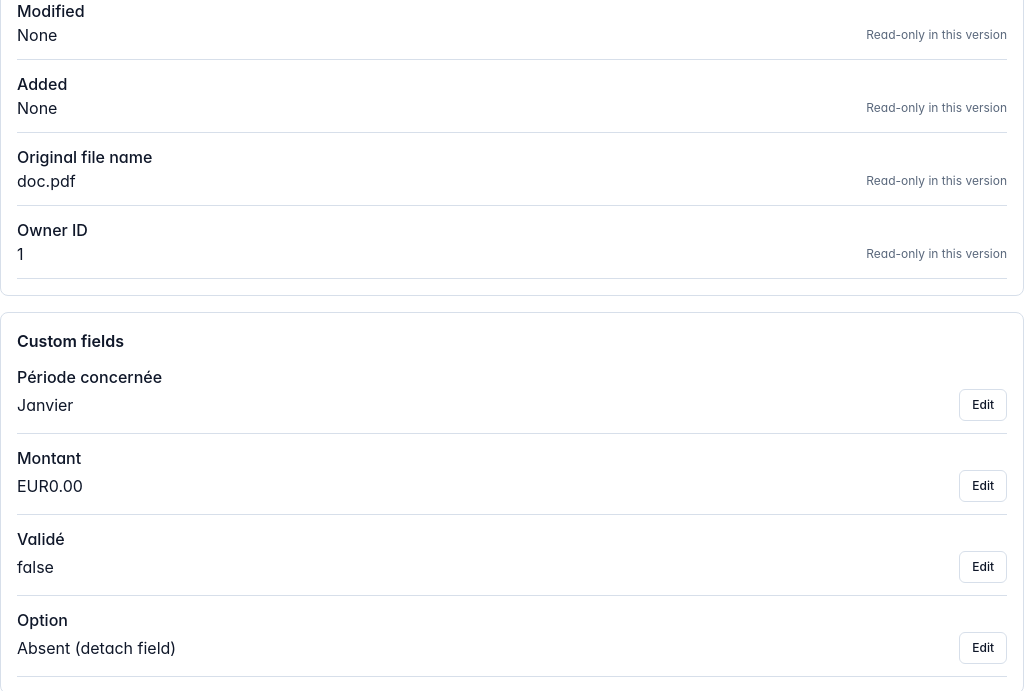
Test: Inspector › uses typed controls for Option (id-1, present)
(page scrolled)
Click the button "Edit" in the row of "Absent (detach field)".
click(983, 648)  # box [959,632,1007,664]
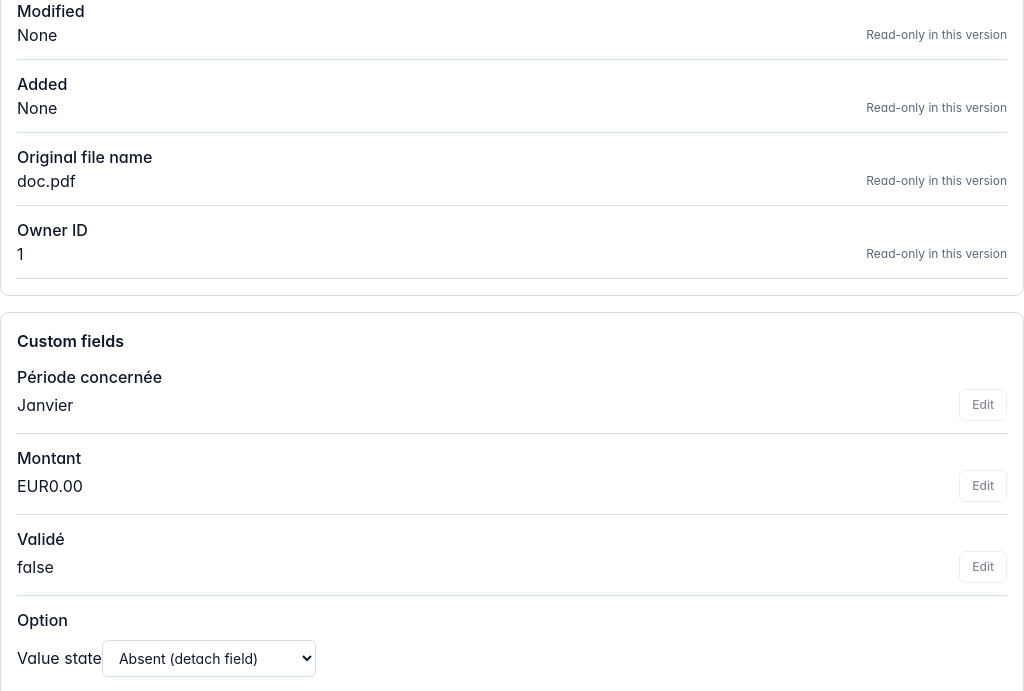
Select "Present value" in the dropdown labelled "Value state" at {"x": 209, "y": 658}, box [102,640,316,677]
(page scrolled)
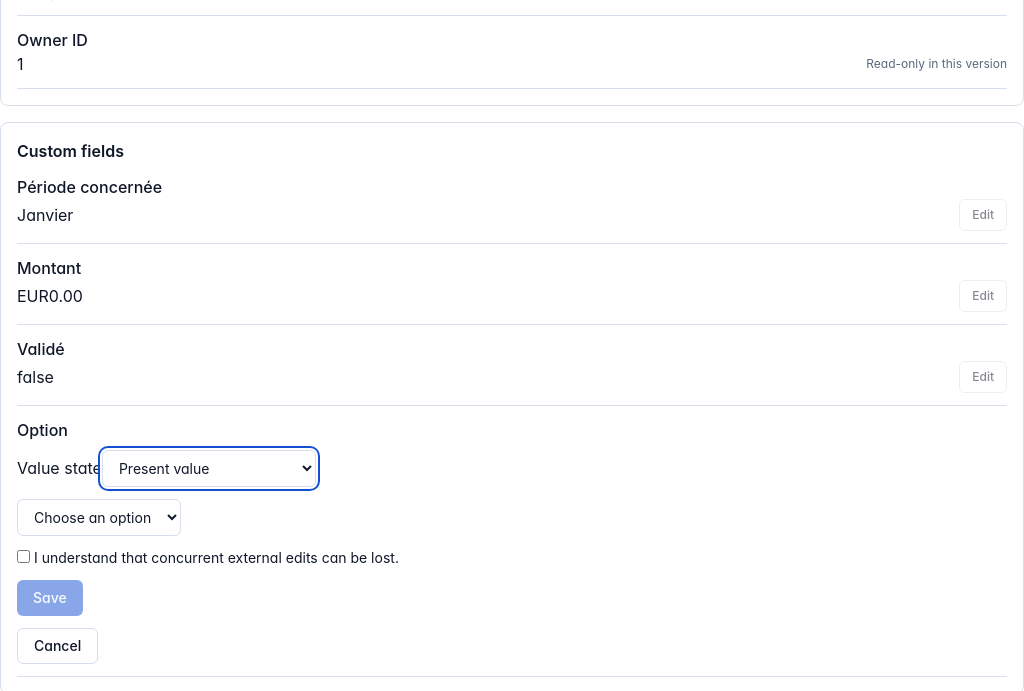
Select "Choice" in the dropdown named "Option" at {"x": 99, "y": 518}, box [17,499,181,536]
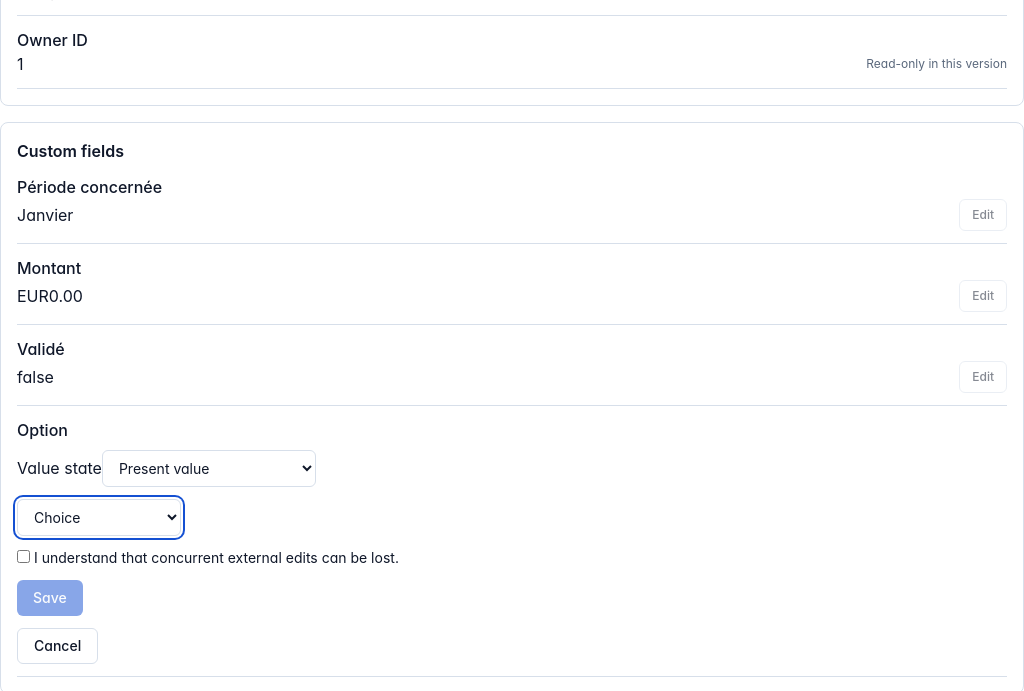
Expected: the button "Save" is disabled, [17,580,83,616]
Click the checkbox labelled "I understand that concurrent external edits can be lost.".
click(24, 556)  # box [17,550,30,563]
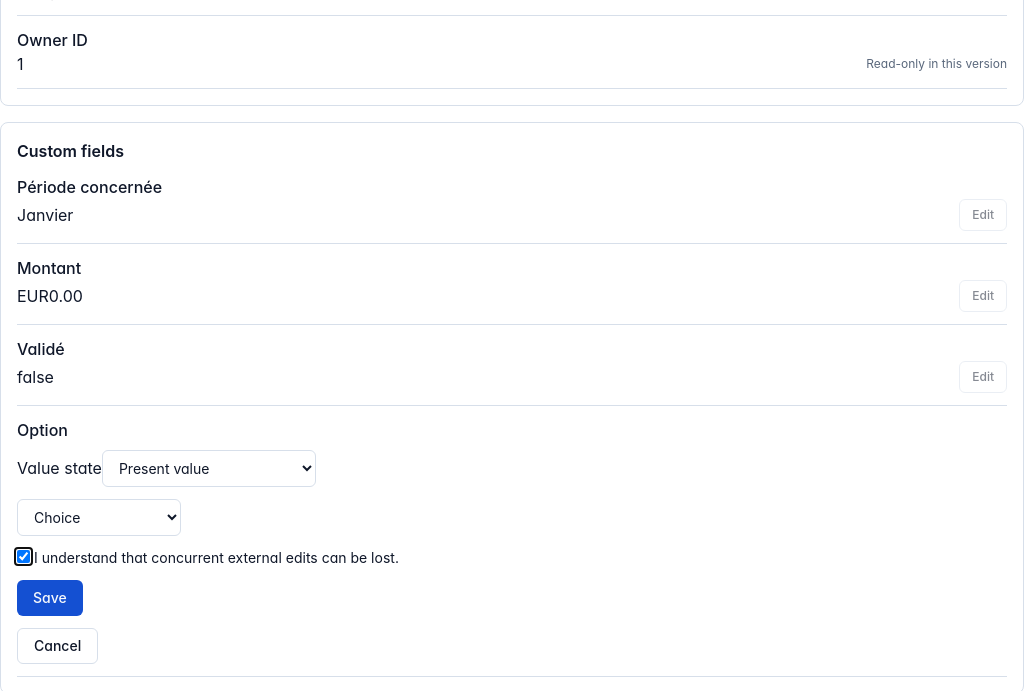
Click the button "Save".
click(50, 598)  # box [17,580,83,616]
(page scrolled)
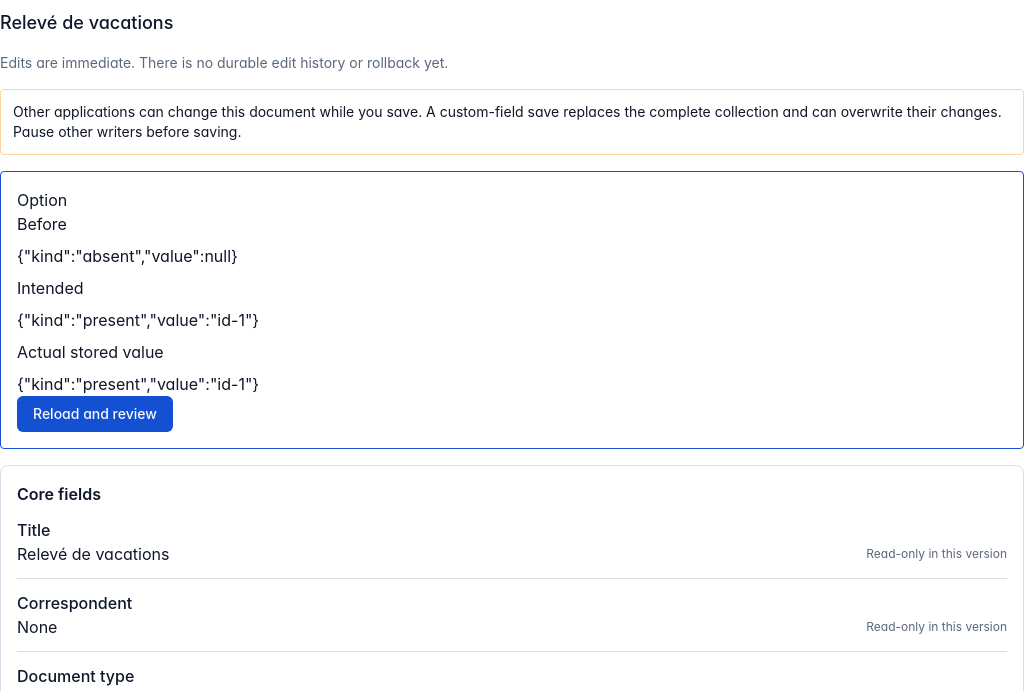
Expected: the message is shown, [0,171,1023,449]
